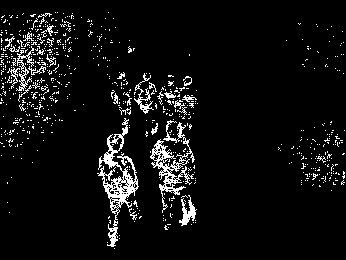person: (151, 121, 198, 230), (97, 134, 141, 250), (133, 71, 158, 137), (109, 71, 133, 136), (176, 72, 198, 141), (158, 73, 179, 140)
